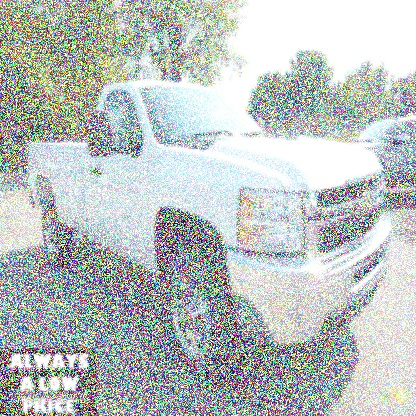Vehicle: (27, 77, 392, 384)
